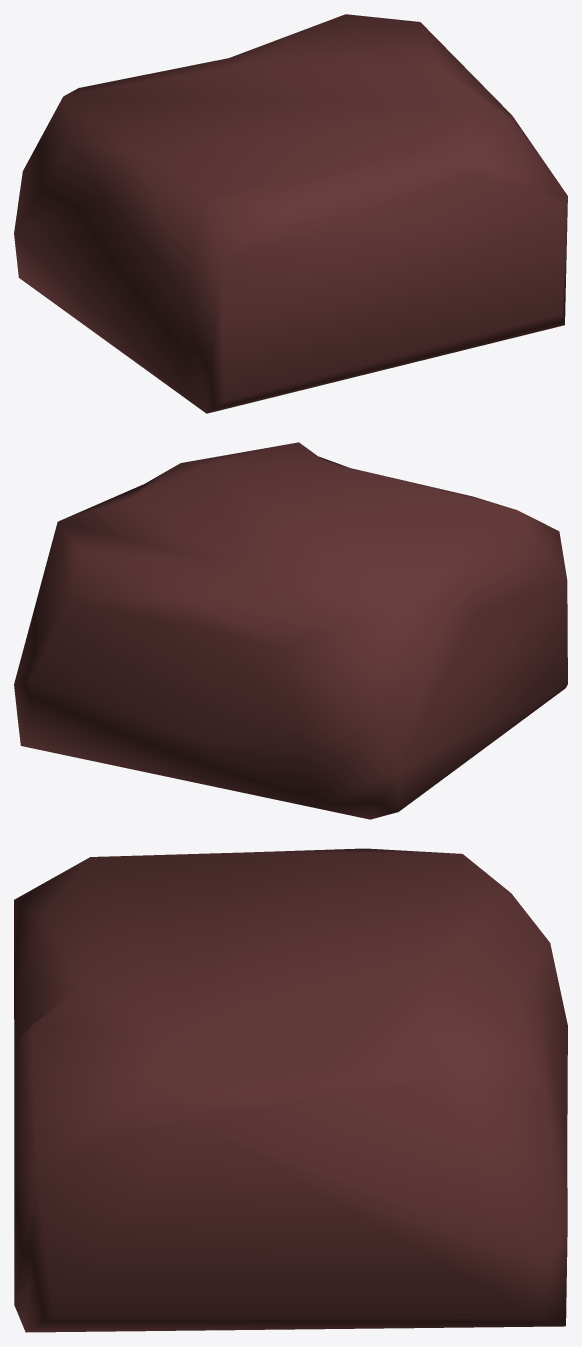
File: SM_large_brick_02.fbx
3 renders of one model, top to bottom at view 1: azimuth 30°, elevation 25°; view 2: azimuth 150°, elevation 25°; view 3: azimuth 270°, elevation 25°, orthographic. The views are drawn at different scales.
Parts seen in each view (by area): view 1: large_brick_02; view 2: large_brick_02; view 3: large_brick_02.
Boxes of the visible parts, box(x1,y1,x2,y2) form: large_brick_02: box(14, 14, 567, 413); large_brick_02: box(14, 442, 567, 819); large_brick_02: box(14, 848, 567, 1332).
Bounding box in the file's own units: 52.86 × 25.91 × 50.01.
